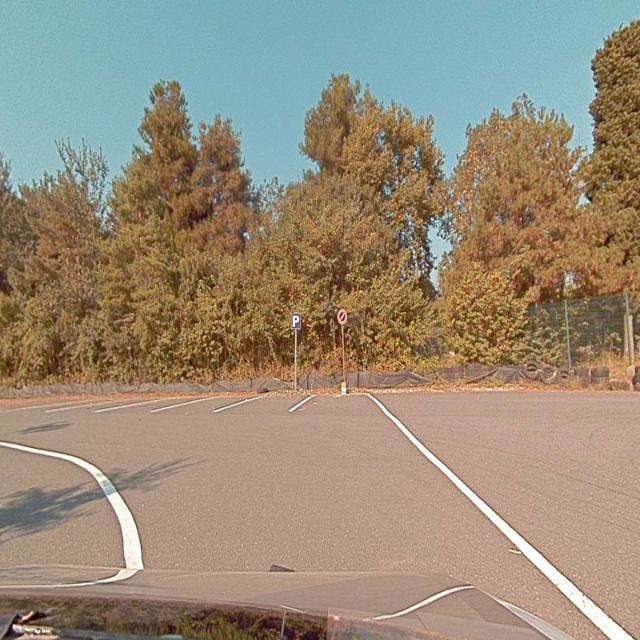park: (291, 314, 301, 329)
parkyasak: (337, 310, 348, 324)
